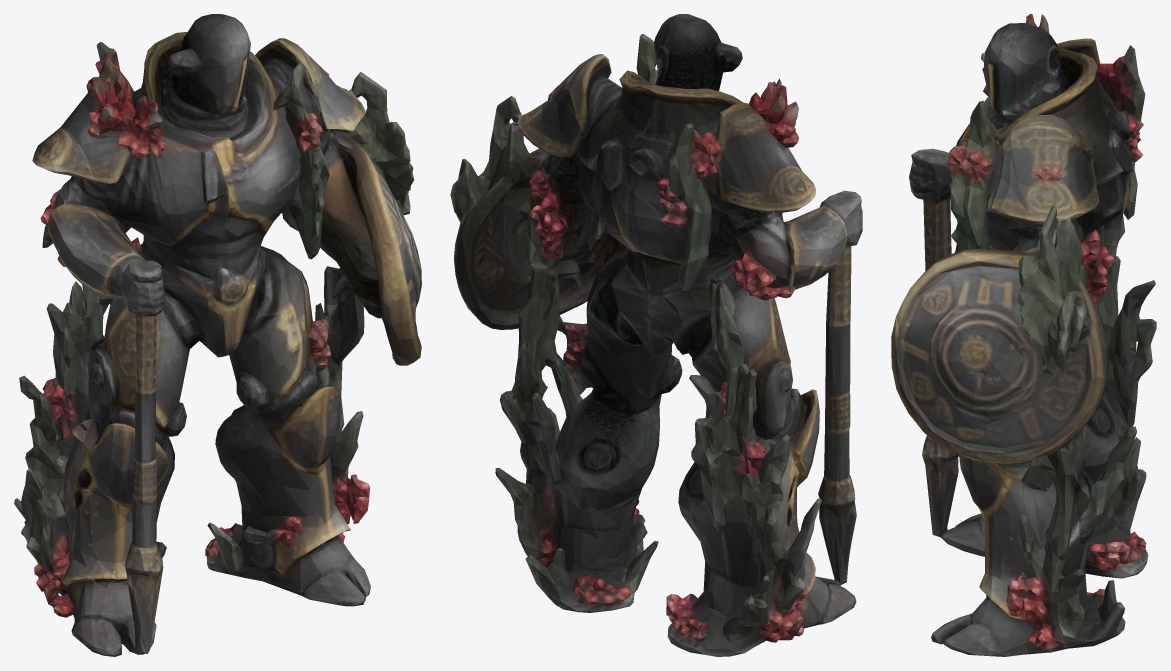
Rendered from lastWarden.glb.
The picture shows the model from 3 angles, left to right: view 1: azimuth 30°, elevation 25°; view 2: azimuth 150°, elevation 25°; view 3: azimuth 270°, elevation 25°; orthographic projection.
Visible parts, largest first — view 1: world; view 2: world; view 3: world.
Boxes of the visible parts, x1,y1,x2,y2 form: world: [14, 14, 421, 656]; world: [450, 14, 862, 656]; world: [891, 14, 1156, 656].
Size of the model in its own units: 0.6803 by 0.9967 by 0.4196.
1 material, 1 textured.
